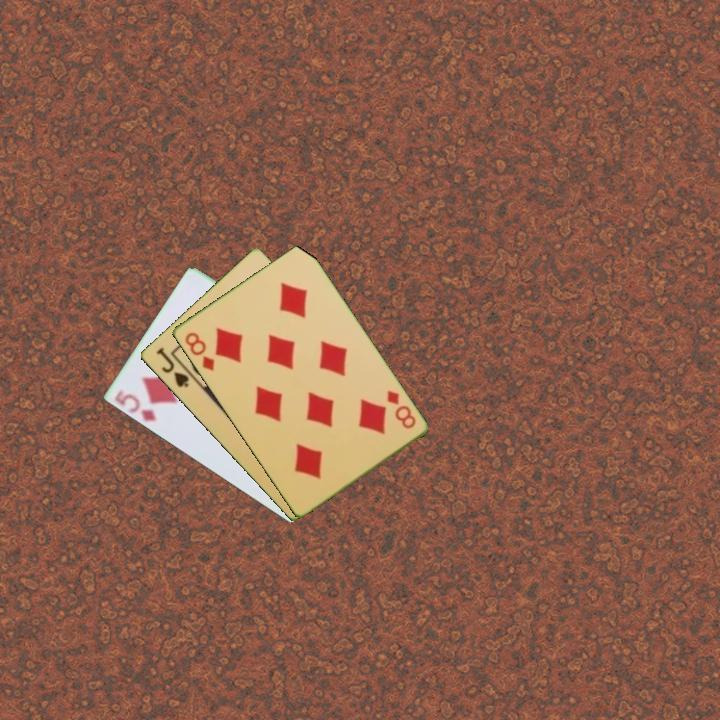5d: (111, 389, 160, 425)
8d: (181, 328, 217, 374), (383, 387, 419, 432)
Js: (152, 344, 191, 390)
